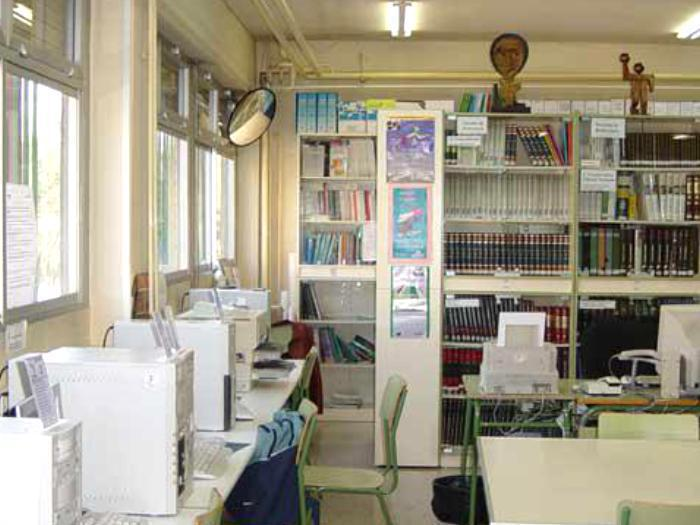Bote de Basura: (427, 464, 497, 525)
